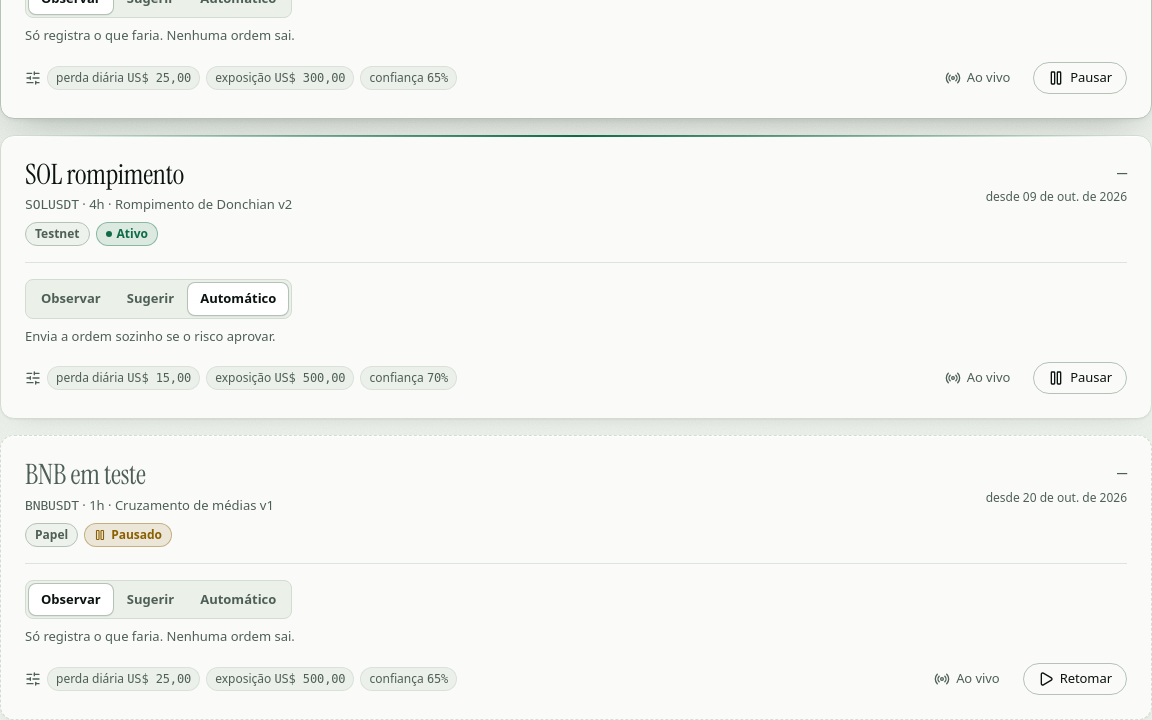
Robôs: pausar e desfazer › pausar um robô no automático não oferece Desfazer (retomar é pelo botão)
(page scrolled)
Click the button "Pausar" in the row of "70%".
click(1080, 378)  # box [1033, 362, 1127, 394]
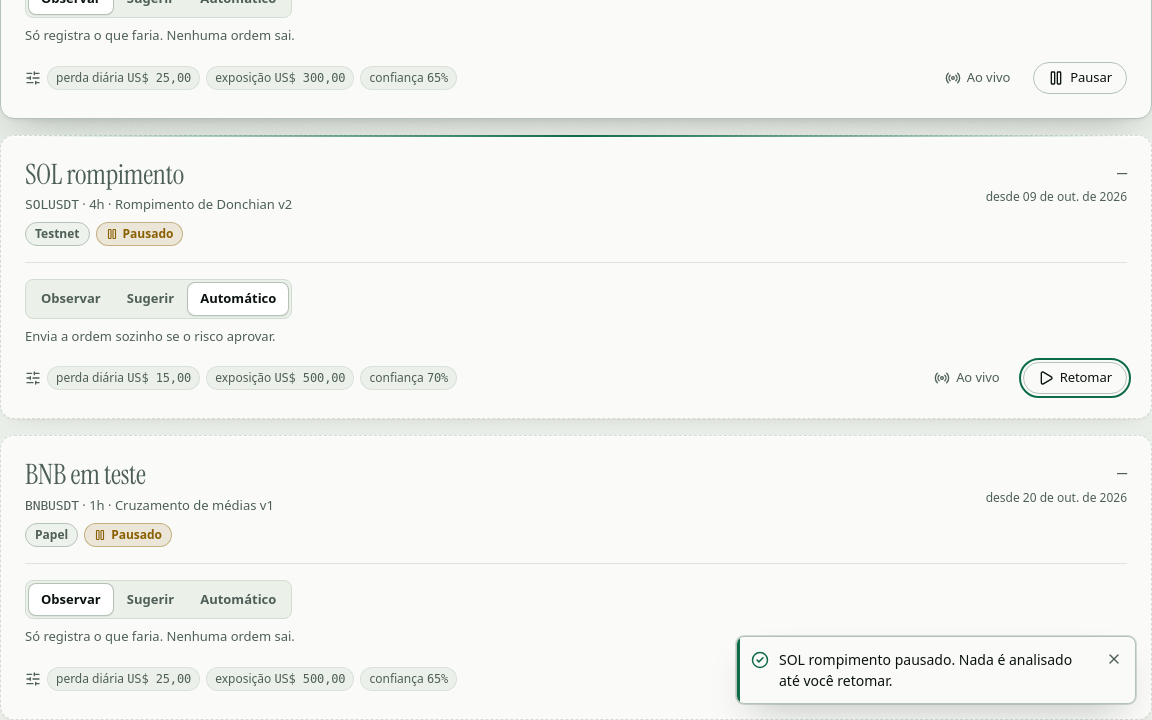
Result: the text "SOL rompimento pausado. Nada é analisado até você retomar." is shown at [779, 649, 1089, 691]
